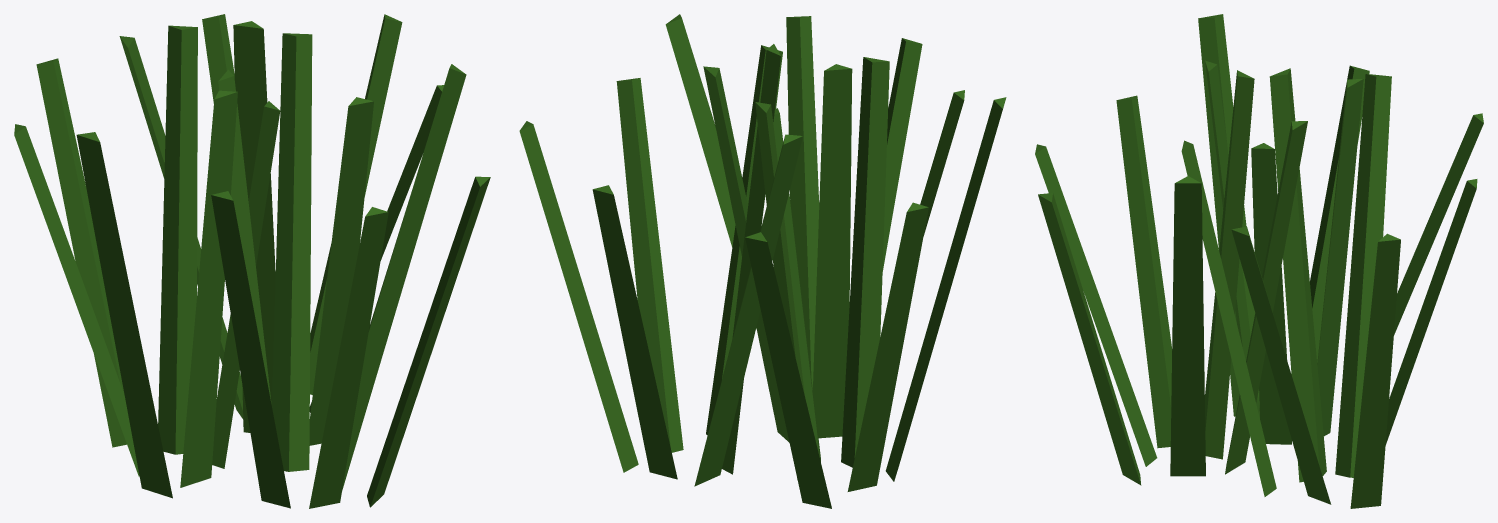
File: Трава_lod1.fbx
3 renders of one model, left to right at view 1: azimuth 30°, elevation 25°; view 2: azimuth 150°, elevation 25°; view 3: azimuth 270°, elevation 25°, orthographic. The views are drawn at different scales.
Parts seen in each view (by area): view 1: Grass_LOD_1; view 2: Grass_LOD_1; view 3: Grass_LOD_1.
Boxes of the visible parts, left/top/right/bottom form: Grass_LOD_1: left=14, top=14, right=490, bottom=508; Grass_LOD_1: left=519, top=14, right=1006, bottom=508; Grass_LOD_1: left=1035, top=14, right=1483, bottom=508.
Size of the model in its own units: 3740 by 3741 by 3893.
